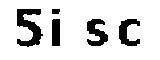5: (10, 6, 45, 51)
c: (115, 18, 144, 52)
i: (48, 6, 66, 51)
s: (83, 17, 110, 52)
